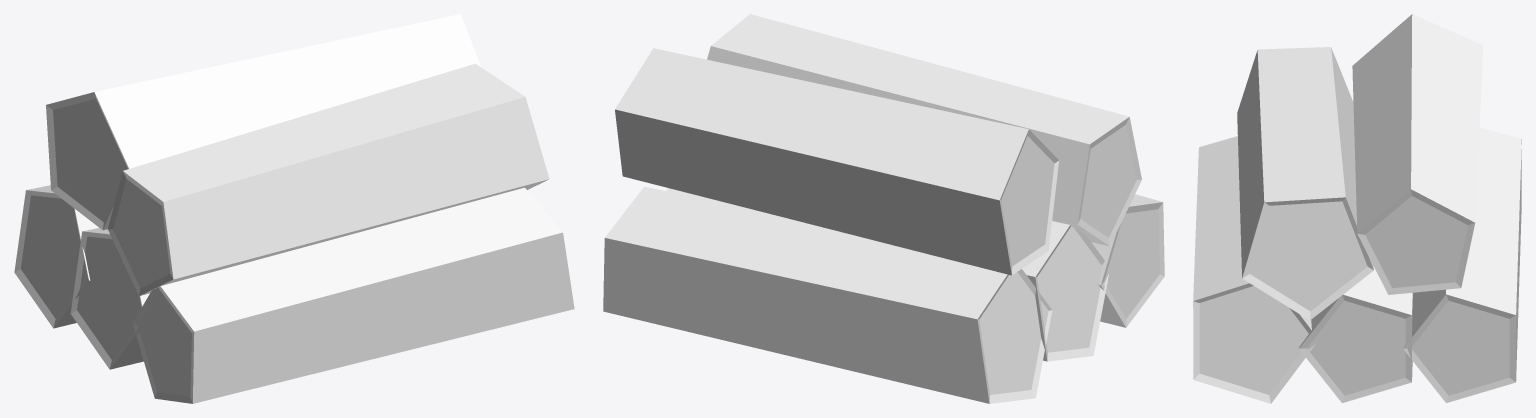
Rendered from tree.log.pile.glb.
The picture shows the model from 3 angles, left to right: view 1: azimuth 30°, elevation 25°; view 2: azimuth 150°, elevation 25°; view 3: azimuth 270°, elevation 25°; orthographic projection. The views are drawn at different scales.
Visible parts, largest first — view 1: log.pile; view 2: log.pile; view 3: log.pile.
Boxes of the visible parts, x1,y1,x2,y2 form: log.pile: (14, 14, 574, 403); log.pile: (603, 14, 1164, 403); log.pile: (1193, 14, 1521, 403).
Size of the model in its own units: 1.1 by 0.6586 by 0.8624.
1 material, 1 textured.
